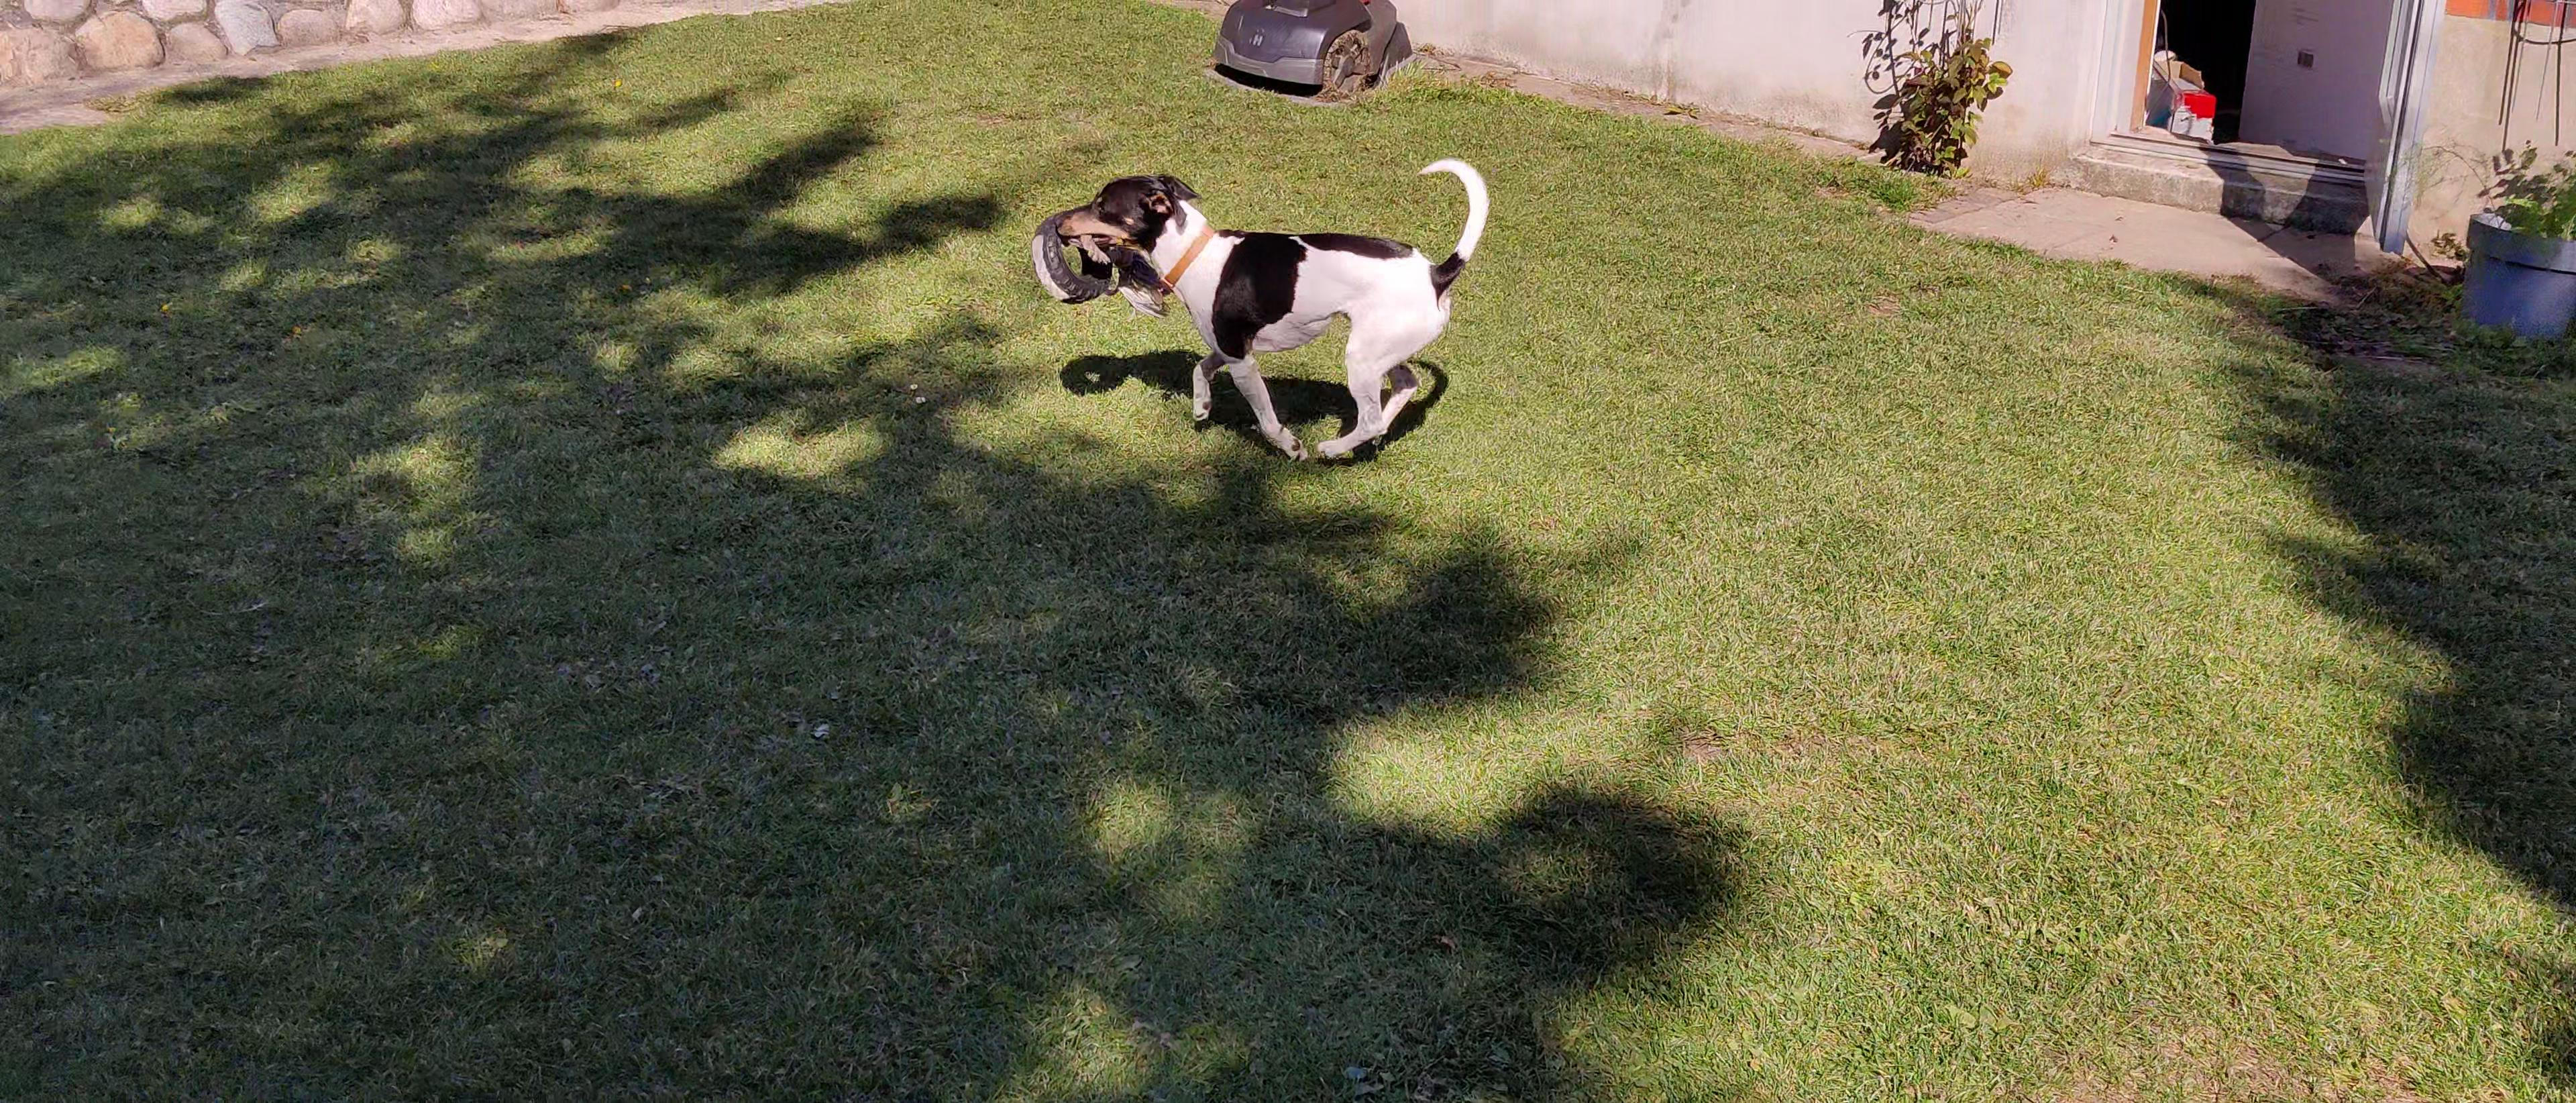Dog: (1046, 153, 1495, 464)
